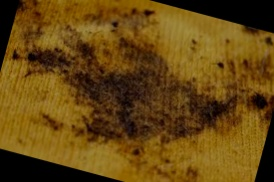earth: (69, 64, 214, 137), (84, 112, 149, 147), (127, 48, 164, 83), (26, 45, 69, 73), (210, 96, 237, 130), (72, 42, 99, 63), (248, 91, 269, 112)
